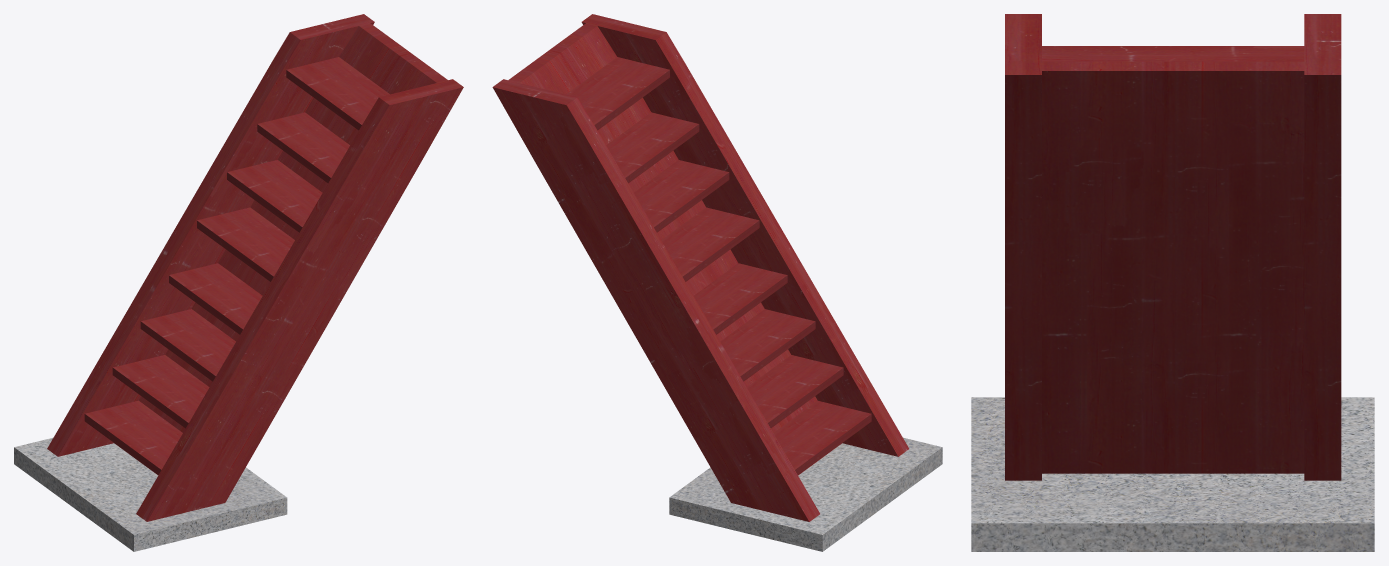
The model's file is SM_RedStair.fbx.
3 views of the same model, side by side, from view 1: azimuth 30°, elevation 25°; view 2: azimuth 150°, elevation 25°; view 3: azimuth 270°, elevation 25° (orthographic). The views are drawn at different scales.
Parts seen in each view (by area): view 1: SM_RedStair; view 2: SM_RedStair; view 3: SM_RedStair.
Part boxes in pixels (left/top/right/bottom): SM_RedStair: left=14, top=14, right=463, bottom=551; SM_RedStair: left=492, top=14, right=942, bottom=551; SM_RedStair: left=971, top=14, right=1374, bottom=551.
Bounding box in the file's own units: 247 × 151 × 260.
2 materials, 2 textured.
